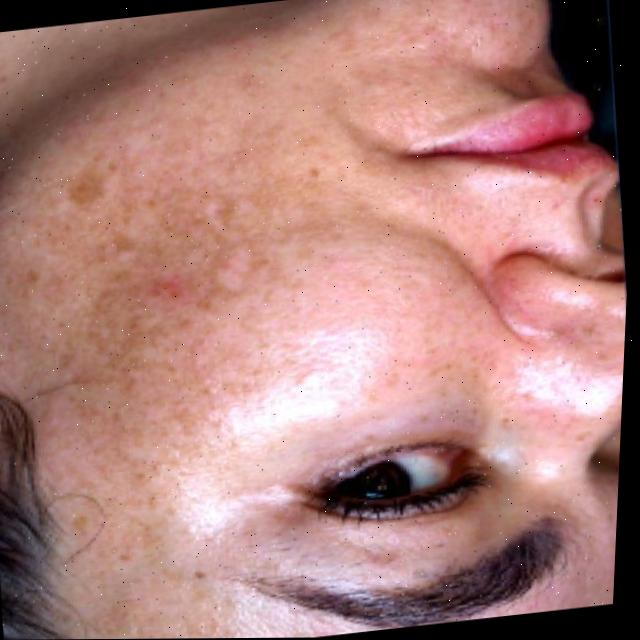Melasma: (0, 171, 304, 440)
